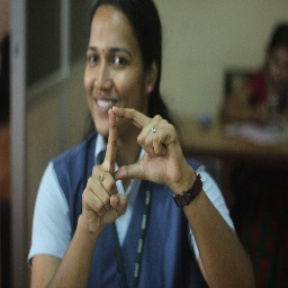D: (92, 103, 180, 189)
